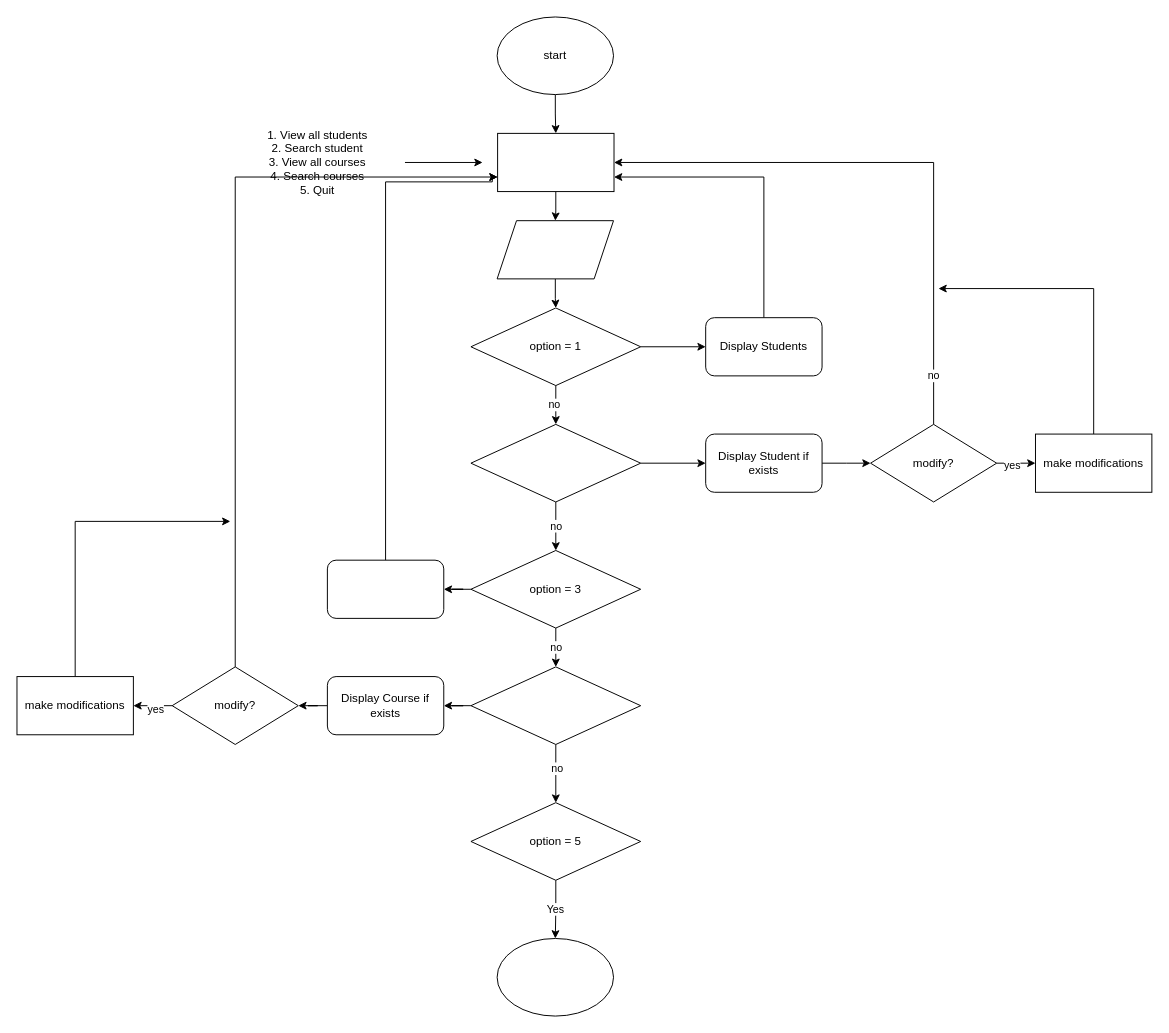
The diagram is 1169 pixels wide and 1033 high, and some of its shapes have lost their labels. Each missing label, with the centre of its shape:
display menu: (x=555, y=162)
end: (x=555, y=977)
option: (x=555, y=249)
option = 2: (x=555, y=462)
option = 4: (x=555, y=705)
View Courses: (x=385, y=588)
